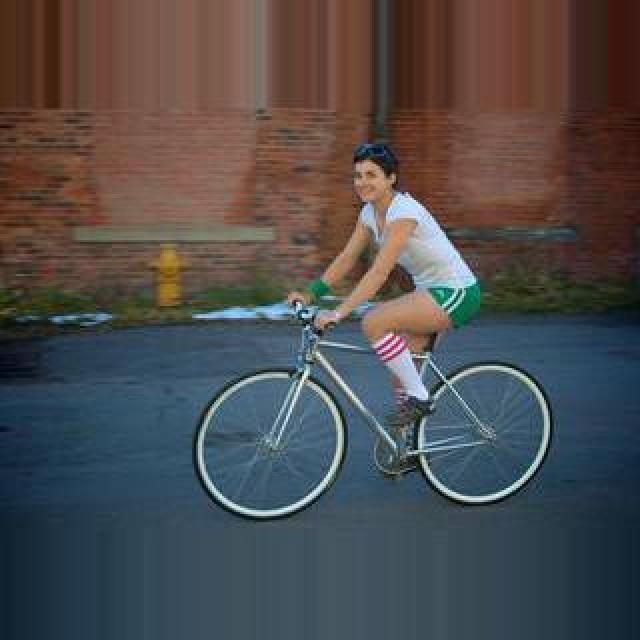MC-Bike: (286, 140, 484, 470)
Person: (196, 303, 552, 517)
